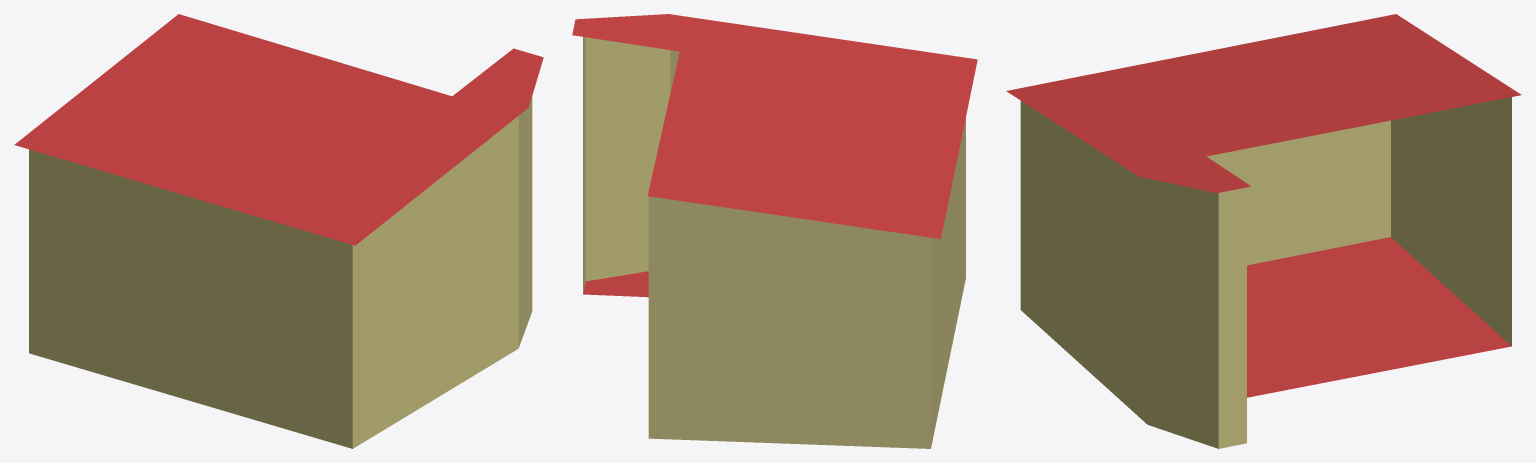
3 views of the same model, side by side, from view 1: azimuth 30°, elevation 25°; view 2: azimuth 150°, elevation 25°; view 3: azimuth 270°, elevation 25° (orthographic). The views are drawn at different scales.
Size of the model in its own units: 11.95 by 11.65 by 6.51.
